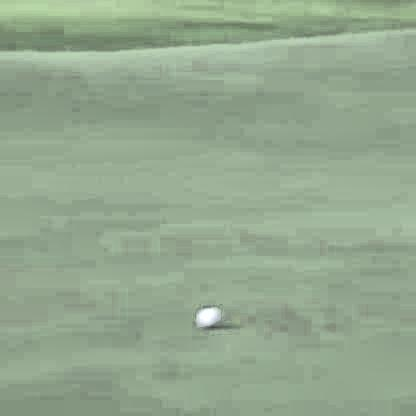golfball: (193, 304, 221, 328)
